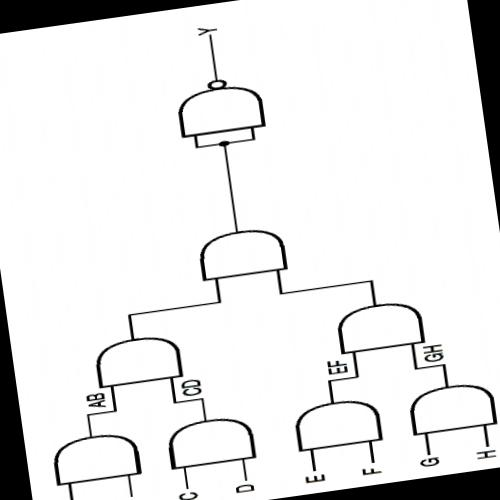and: (185, 218, 299, 286), (42, 424, 150, 492), (286, 390, 391, 458), (324, 293, 432, 359), (158, 408, 262, 474), (88, 328, 192, 392), (400, 374, 500, 440)
nand: (164, 69, 274, 145)
